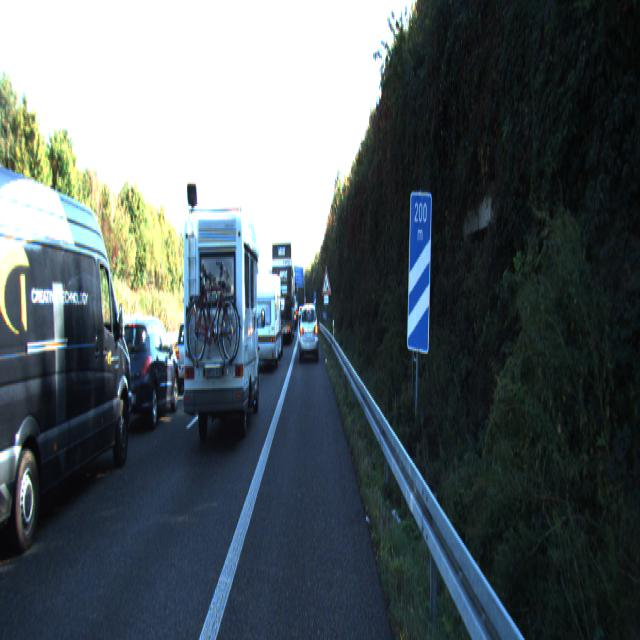Car: (0, 155, 134, 575), (182, 210, 262, 450), (109, 314, 179, 433), (249, 268, 281, 372), (272, 238, 294, 340), (299, 300, 318, 360)
